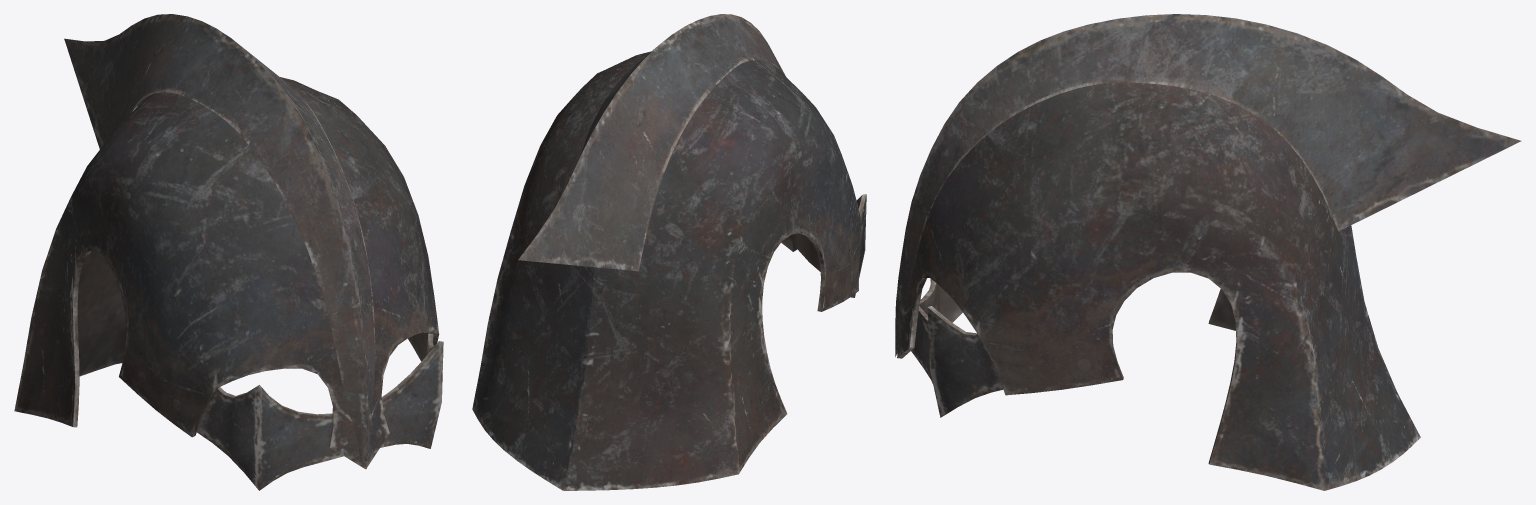
The model's file is sk_dg_uruk_helmet_heavy_g.fbx.
3 renders of one model, left to right at view 1: azimuth 30°, elevation 25°; view 2: azimuth 150°, elevation 25°; view 3: azimuth 270°, elevation 25°, orthographic. The views are drawn at different scales.
Visible parts, largest first — view 1: sk_dg_uruk_helmet_heavy_g; view 2: sk_dg_uruk_helmet_heavy_g; view 3: sk_dg_uruk_helmet_heavy_g.
Boxes of the visible parts, x1,y1,x2,y2 form: sk_dg_uruk_helmet_heavy_g: (14,14,443,490); sk_dg_uruk_helmet_heavy_g: (472,14,866,490); sk_dg_uruk_helmet_heavy_g: (895,14,1521,490).
Bounding box in the file's own units: 0.2027 × 0.3666 × 0.2746.
Materials: 1 (1 with a texture image).
